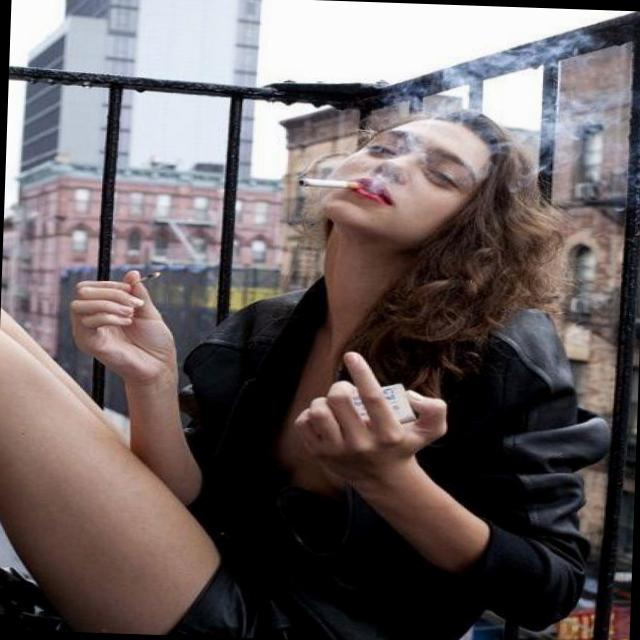smoke: (277, 165, 383, 203)
